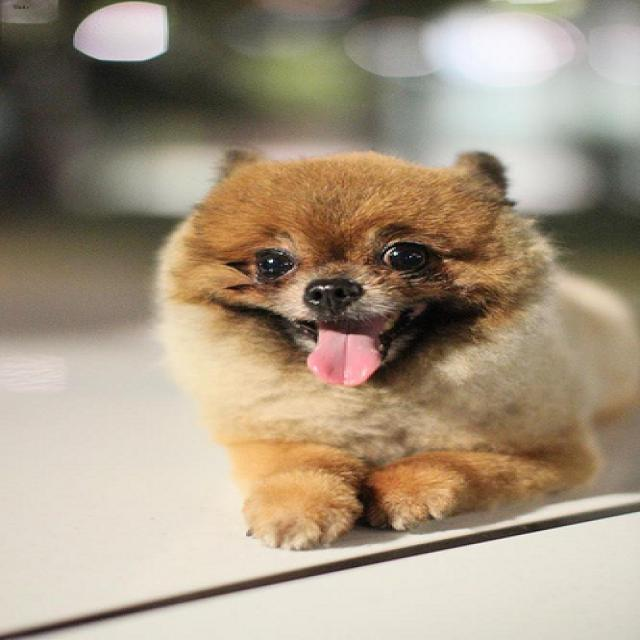dog-pomeranian: (131, 137, 636, 563)
